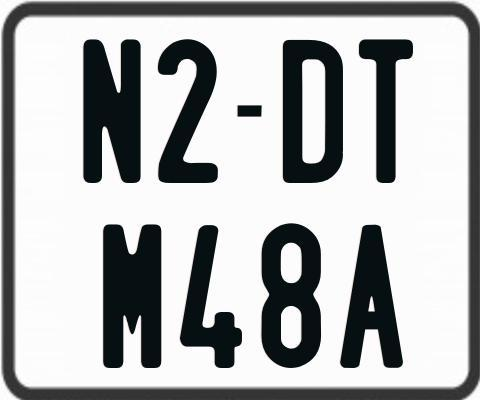2: (156, 36, 220, 186)
4: (180, 223, 243, 367)
8: (261, 221, 323, 369)
A: (337, 223, 406, 370)
D: (283, 37, 345, 186)
M: (100, 224, 159, 372)
N: (83, 38, 144, 183)
T: (357, 37, 415, 181)
